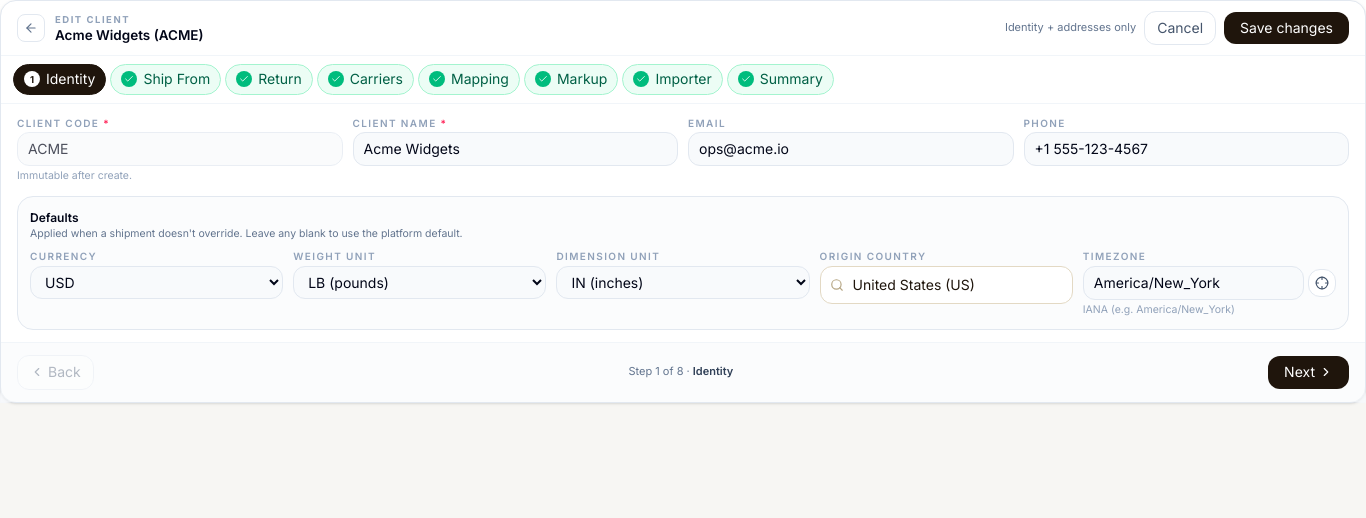
Test: ClientEditorPage · Return step · edit-mode hydration › hydrates returnAddress + returnSameAsShipFrom=false from server response
Click the tab "Return". click: click(269, 79)
box: [225, 64, 313, 95]
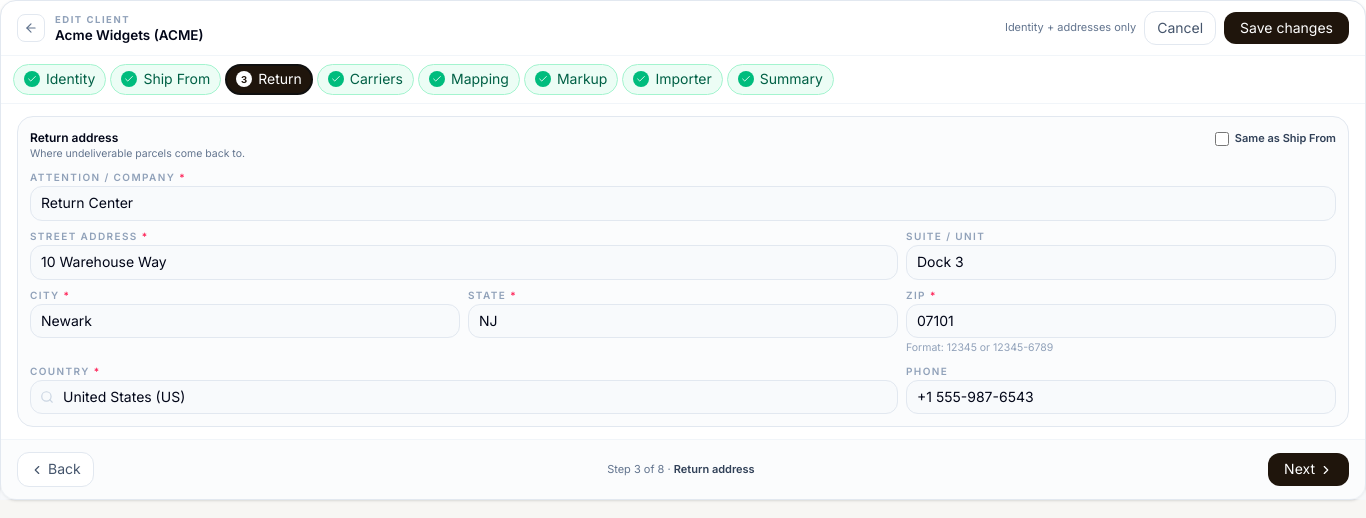
Check: the heading "Return address" is shown, box [30, 130, 118, 145]
Check: the checkbox labelled "Same as Ship From" is not checked, box [1215, 132, 1229, 146]
Check: the field with placeholder "Warehouse / contact name" holds "Return Center", box [30, 186, 1336, 221]
